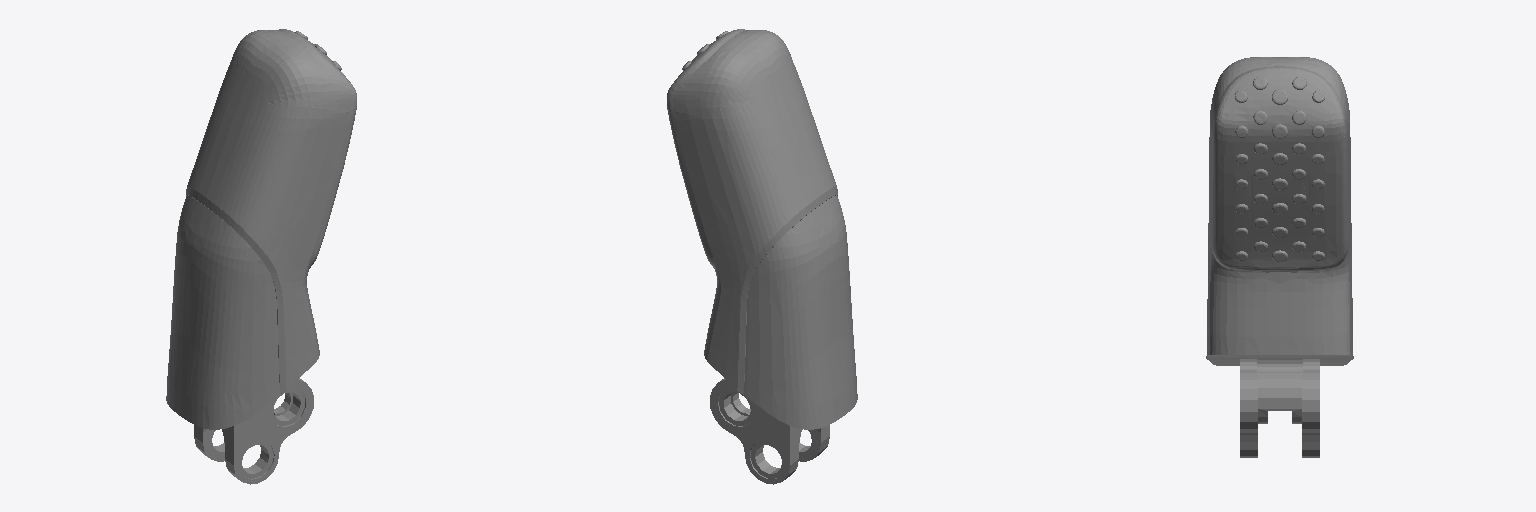
Rendered from left_little_2_visuals.obj.
3 views of the same model, side by side, from view 1: azimuth 30°, elevation 25°; view 2: azimuth 150°, elevation 25°; view 3: azimuth 270°, elevation 25° (orthographic).
Size of the model in its own units: 0.0199 by 0.0524 by 0.0167.